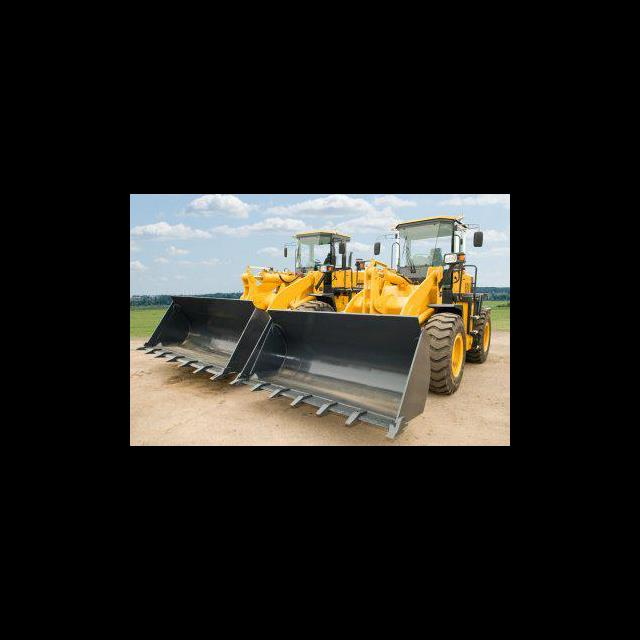wheel loader: (230, 212, 494, 441), (135, 228, 374, 395)
